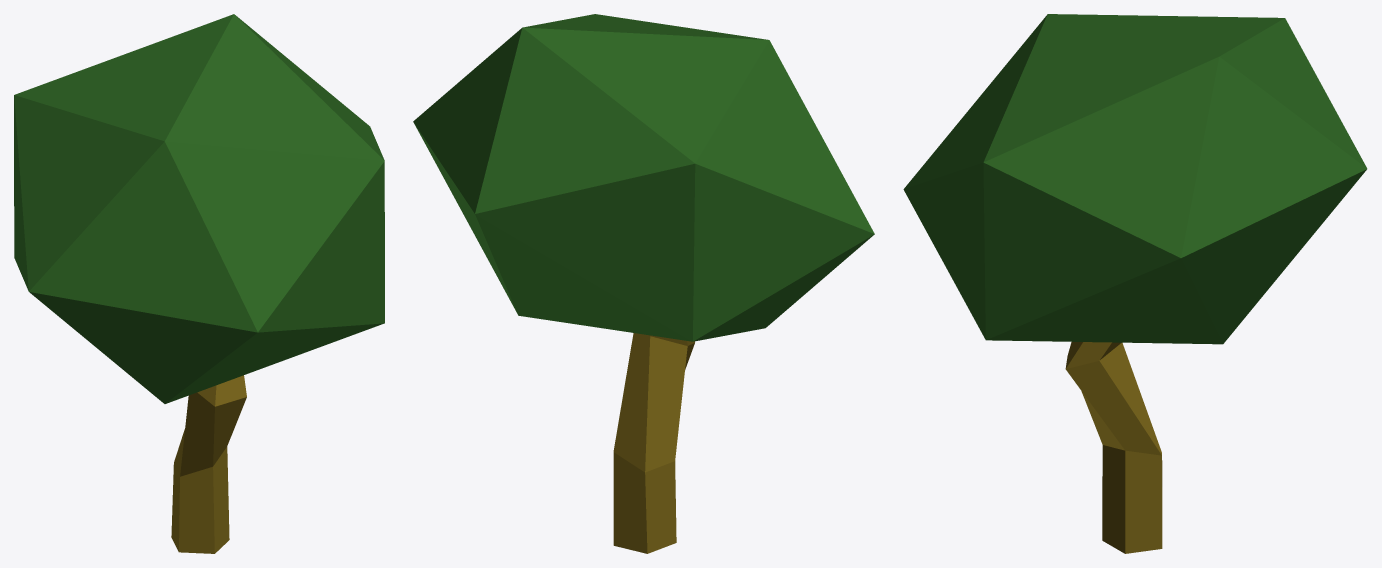
Rendered from tree_2.fbx.
3 views of the same model, side by side, from view 1: azimuth 30°, elevation 25°; view 2: azimuth 150°, elevation 25°; view 3: azimuth 270°, elevation 25° (orthographic). The views are drawn at different scales.
Visible parts, largest first — view 1: tree_2; view 2: tree_2; view 3: tree_2.
Part boxes in pixels (x1,y1,x2,y2): tree_2: [14, 14, 384, 553]; tree_2: [413, 14, 874, 553]; tree_2: [903, 14, 1367, 553].
Size of the model in its own units: 110 by 132 by 106.
